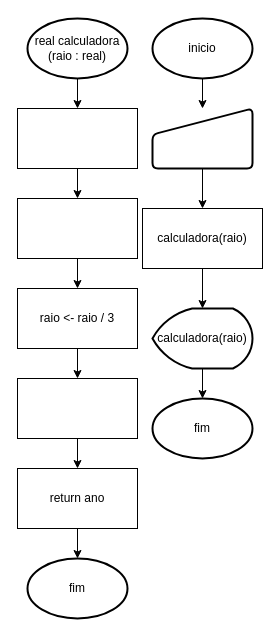
Image size: 280x636. Some labels were removed from this diagram. The shapes that lost their labels are listed below. From the top down, each one's centre as x and y in pixels, then its label:
(x=77, y=138): raio <- raio * raio * raio
(x=202, y=138): raio
(x=77, y=228): raio <- raio * 4
(x=77, y=408): raio <- raio * 3,14
